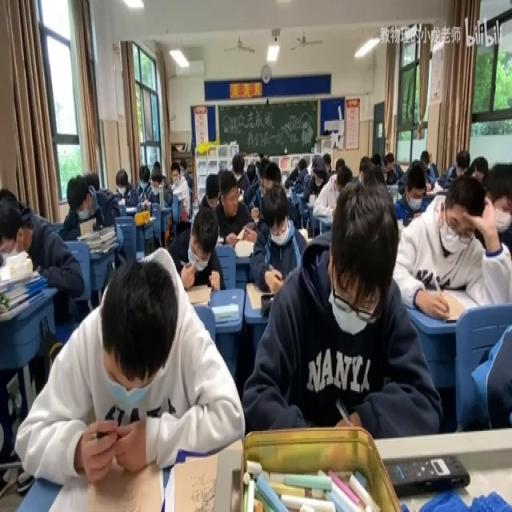calculator: (80, 455, 162, 511), (164, 450, 226, 509), (428, 288, 466, 322), (210, 302, 238, 322), (185, 283, 211, 304), (233, 238, 254, 258), (318, 215, 333, 236), (288, 186, 301, 209), (133, 214, 154, 224), (298, 226, 308, 240), (424, 189, 438, 198), (125, 205, 137, 215), (385, 180, 397, 190), (237, 188, 243, 200), (309, 193, 315, 205), (215, 236, 225, 243), (285, 188, 291, 196)
paper: (242, 176, 436, 437), (0, 184, 85, 486), (170, 205, 224, 290), (60, 173, 117, 239), (250, 161, 300, 232), (307, 150, 346, 238), (213, 169, 254, 245), (481, 166, 512, 248), (0, 202, 31, 256), (168, 161, 190, 222), (440, 149, 470, 189), (112, 166, 138, 209), (417, 149, 439, 188), (290, 156, 311, 194), (202, 172, 220, 215), (136, 162, 153, 205), (382, 152, 403, 186), (467, 155, 487, 183), (334, 162, 352, 192), (0, 186, 18, 206), (83, 171, 99, 192), (161, 182, 173, 208), (257, 156, 269, 180), (307, 154, 320, 176), (358, 155, 370, 176), (245, 162, 255, 186), (231, 159, 243, 179), (322, 151, 331, 175), (370, 154, 382, 165), (151, 174, 162, 184), (151, 160, 160, 170), (180, 161, 186, 175), (160, 174, 166, 186)
person: (386, 454, 470, 496), (228, 466, 241, 510), (258, 292, 274, 316)
